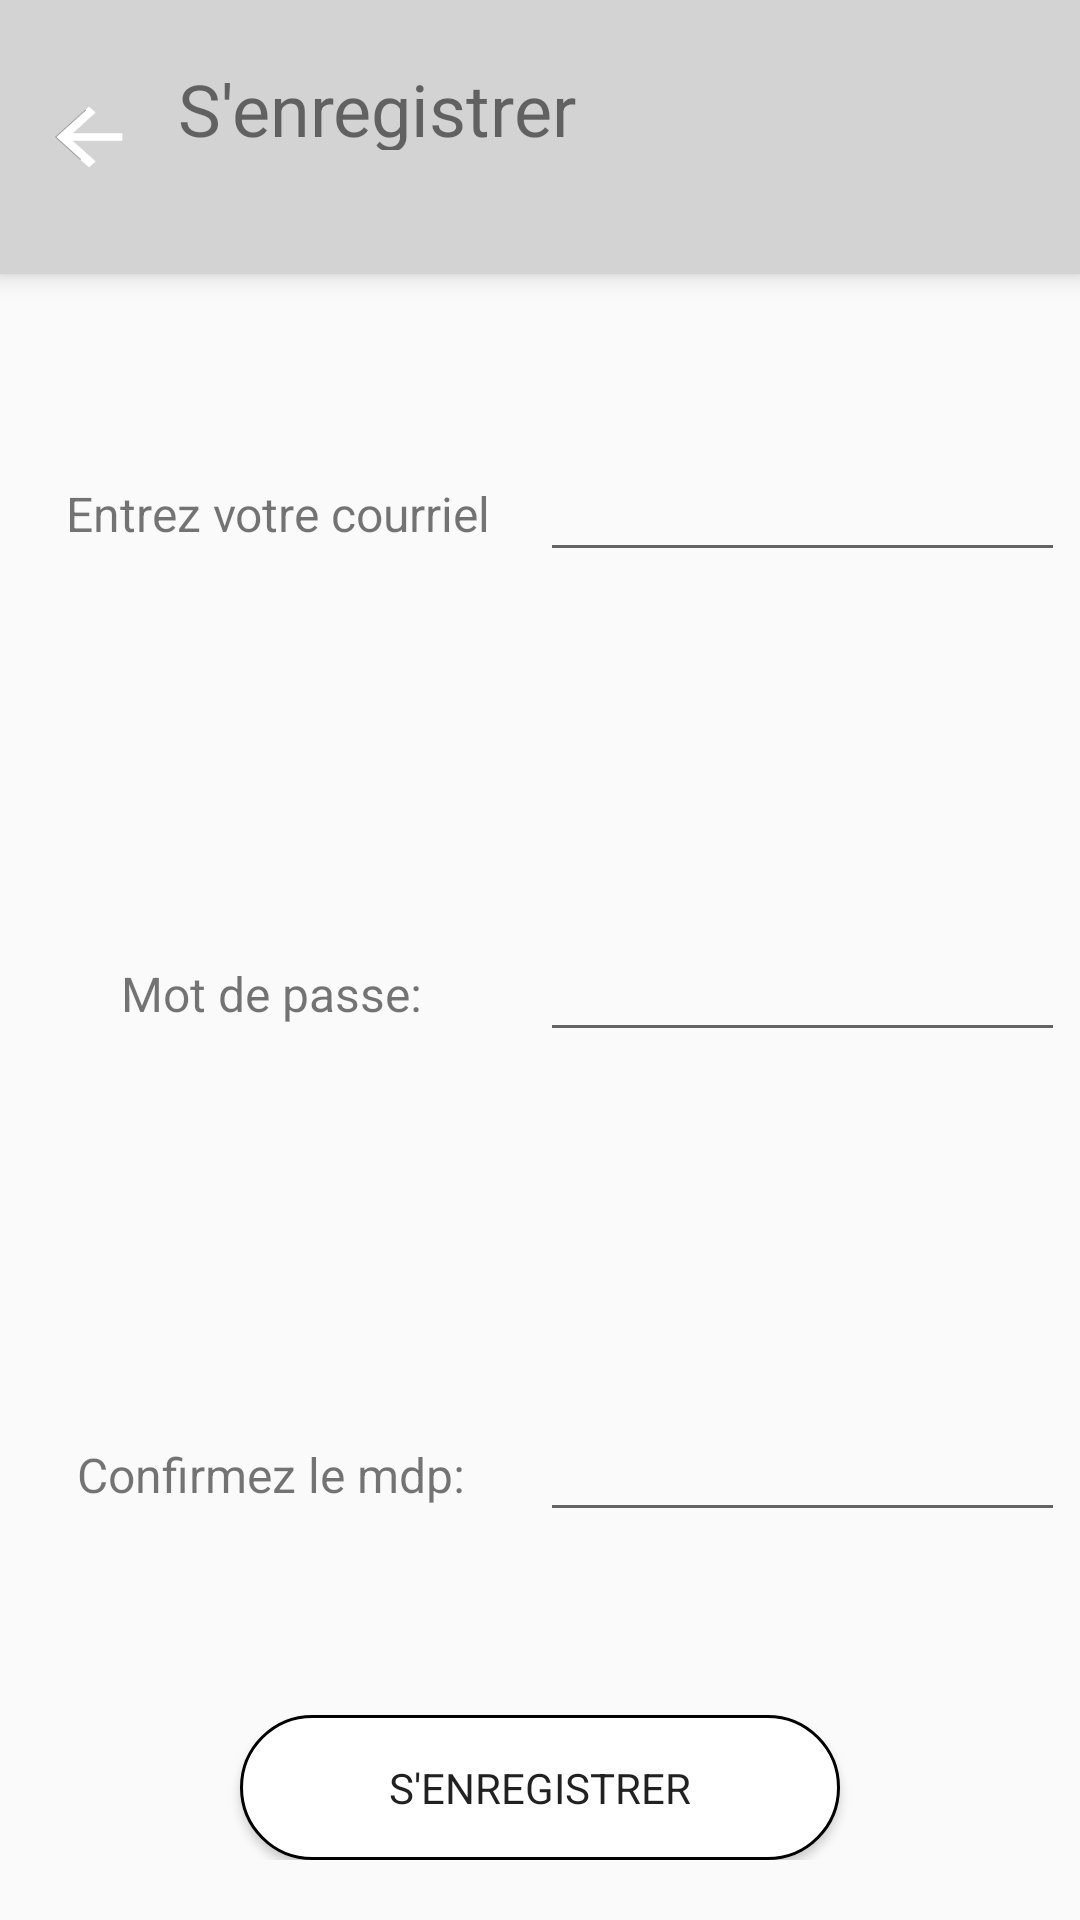

Named icons in this screenshot (1080 × 1920) and their centers, (x=x, y=y):
arrow back: (x=88, y=137)
